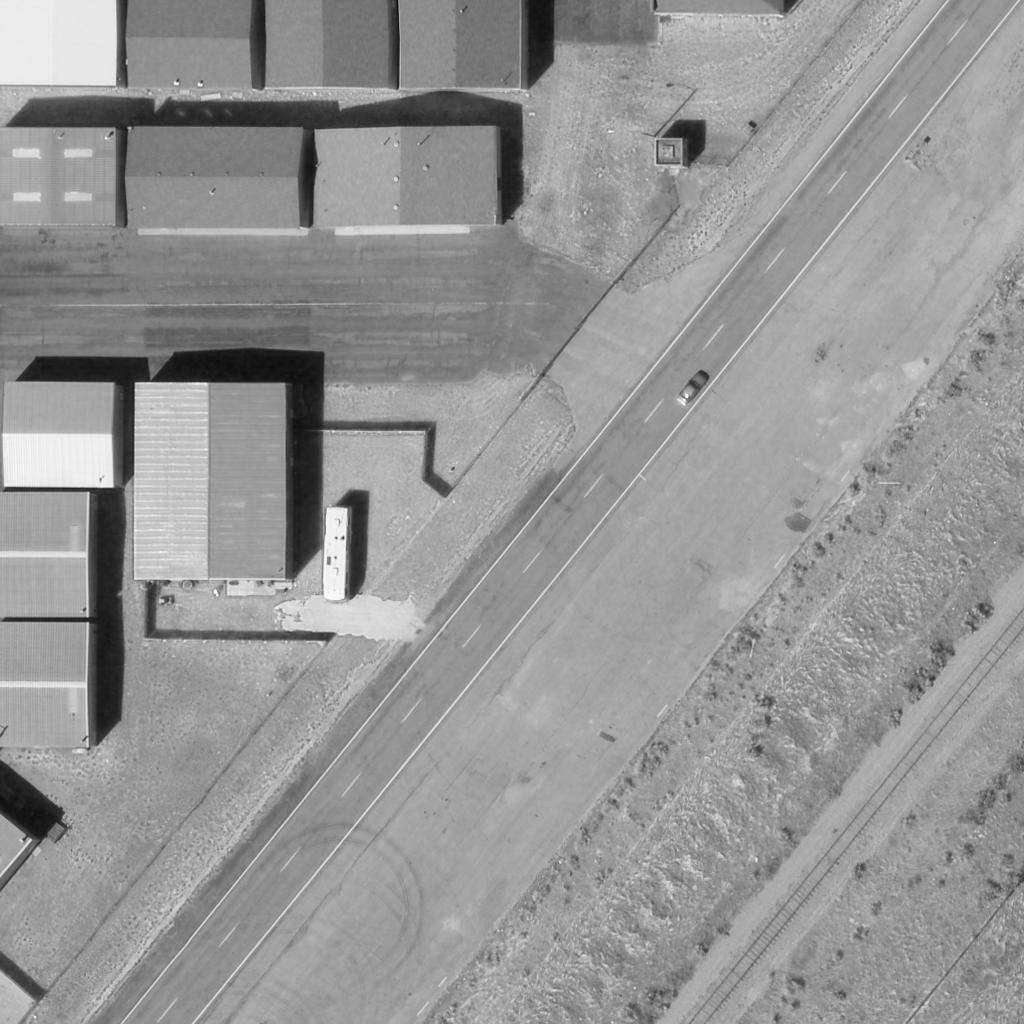vehicle: (324, 508, 352, 604), (674, 368, 710, 408)
